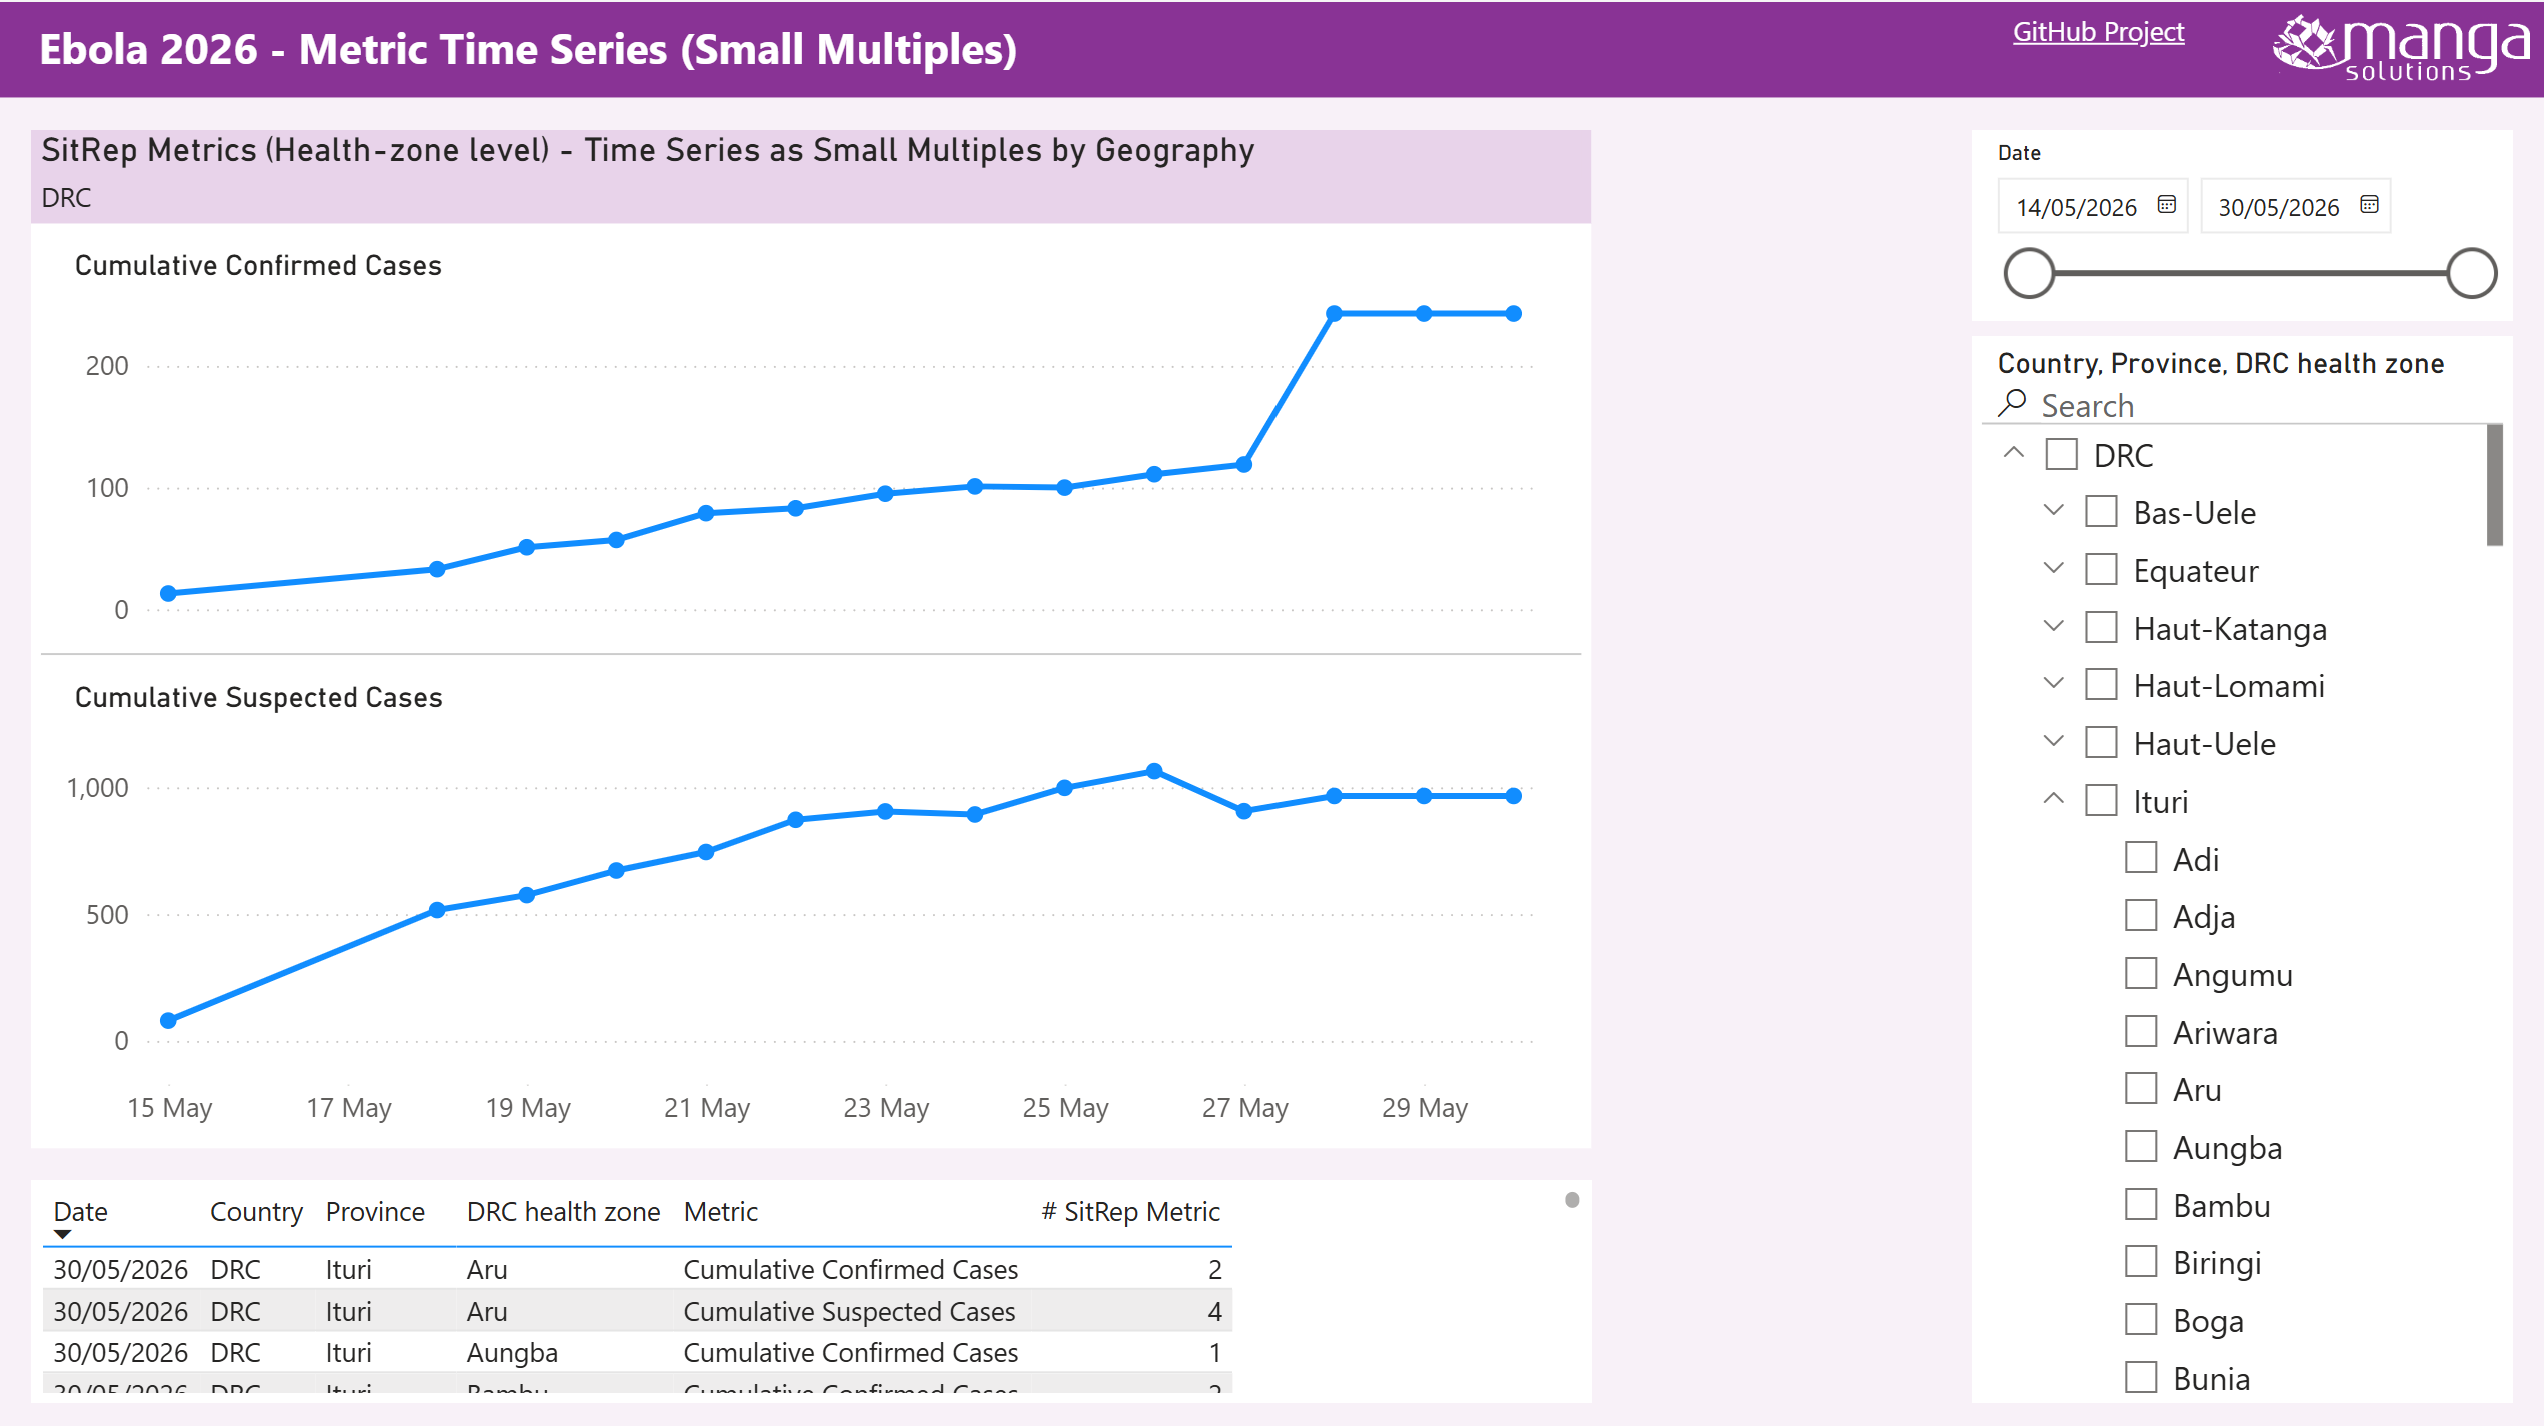

This screenshot's page, from the dashboard's own definition file:
{"tool":"powerbi","page":{"name":"Metric Time Series (Small Multiples)","canvas":[1280,720],"ordinal":1},"visuals":[{"type":"textbox","box":[0,0,1280,48],"z":0},{"type":"textbox","box":[992,0,112,32],"z":1000},{"type":"lineChart","title":"SitRep Metrics (Health-zone level) - Time Series as Small Multiples by Geography","fields":{"Category":["Dates.Date"],"Rows":["SitRep Metrics.Metric"],"Y":["SitRep Metrics.# SitRep Metric"]},"box":[16,64,784,512],"z":2000},{"type":"slicer","fields":{"Values":["Dates.Date"]},"box":[992,64,272,96],"z":4000},{"type":"tableEx","fields":{"Values":["Dates.Date","DRC Health Zones.Country","DRC Health Zones.Province","DRC_Health_zones.DRC health zone","SitRep Metrics.Metric","SitRep Metrics.# SitRep Metric"]},"box":[16,592,784,112],"z":6000},{"type":"slicer","fields":{"Values":["DRC Health Zones.Country","DRC Health Zones.Province","DRC Health Zones.DRC health zone"]},"box":[992,168,272,536],"z":8000},{"type":"image","box":[1136,0,144,48],"z":10000}]}

Visuals, with their boxes in screenshot pixels (x1, y1, x2, y2), scaled from the page's 1280x720 canvas onto the 2544x1426 screenshot:
textbox: rect(0, 0, 2543, 95)
textbox: rect(1972, 0, 2194, 63)
"SitRep Metrics (Health-zone level) - Time Series as Small Multiples by Geography" lineChart: rect(32, 127, 1590, 1141)
slicer - Dates.Date: rect(1972, 127, 2512, 317)
tableEx - Dates.Date x DRC Health Zones.Country: rect(32, 1172, 1590, 1394)
slicer - DRC Health Zones.Country x DRC Health Zones.Province: rect(1972, 333, 2512, 1394)
image: rect(2258, 0, 2543, 95)
